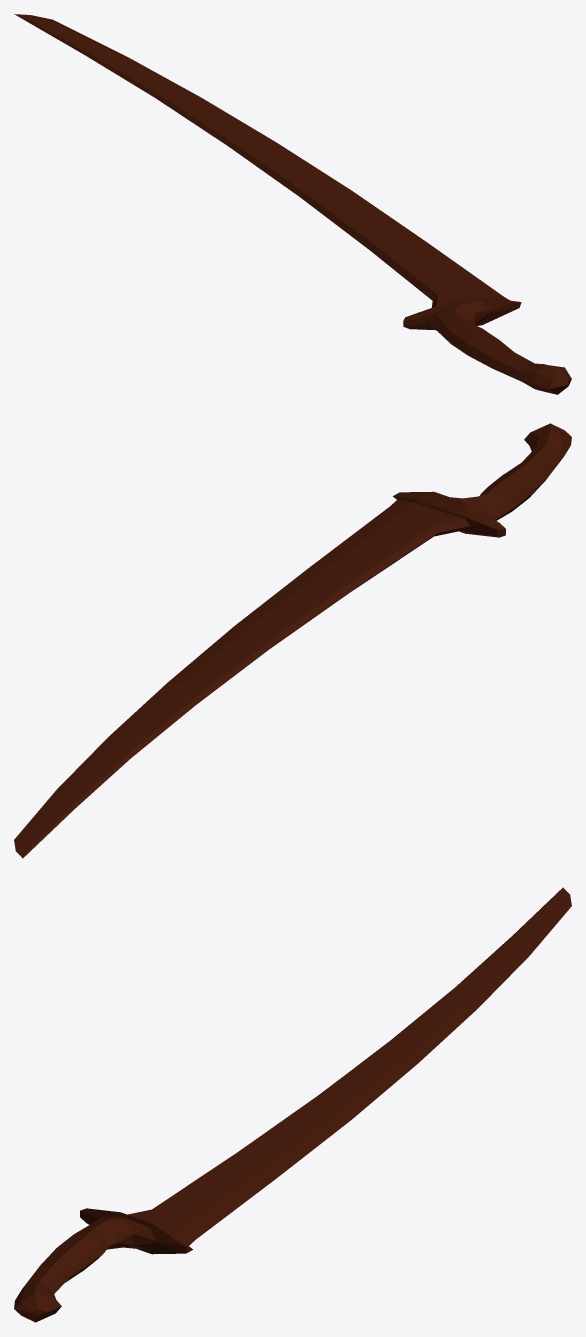
Rendered from Offset_Sword.glb.
3 renders of one model, top to bottom at view 1: azimuth 30°, elevation 25°; view 2: azimuth 150°, elevation 25°; view 3: azimuth 330°, elevation 25°, orthographic. The views are drawn at different scales.
Parts seen in each view (by area): view 1: Offset_Sword; view 2: Offset_Sword; view 3: Offset_Sword.
Boxes of the visible parts, <box> form: Offset_Sword: <box>14,14,571,394</box>; Offset_Sword: <box>14,423,571,858</box>; Offset_Sword: <box>14,887,571,1322</box>.
Size of the model in its own units: 16.54 by 4.05 by 134.
